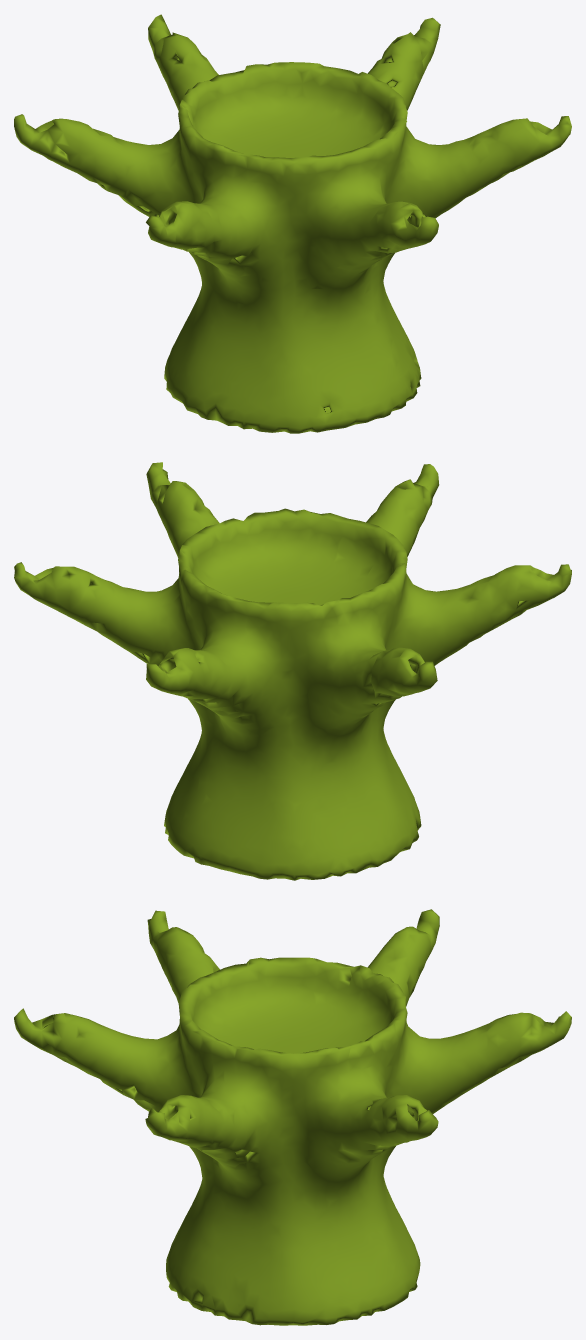
Rendered from model_decimated.obj.
3 views of the same model, one above another, from view 1: azimuth 30°, elevation 25°; view 2: azimuth 150°, elevation 25°; view 3: azimuth 270°, elevation 25° (orthographic).
Size of the model in its own units: 147 by 89.02 by 167.
